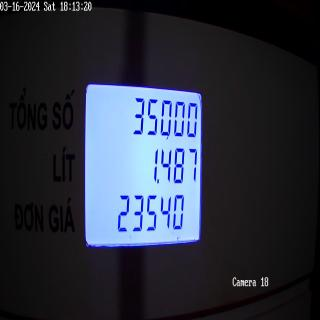screen: (81, 70, 208, 255)
